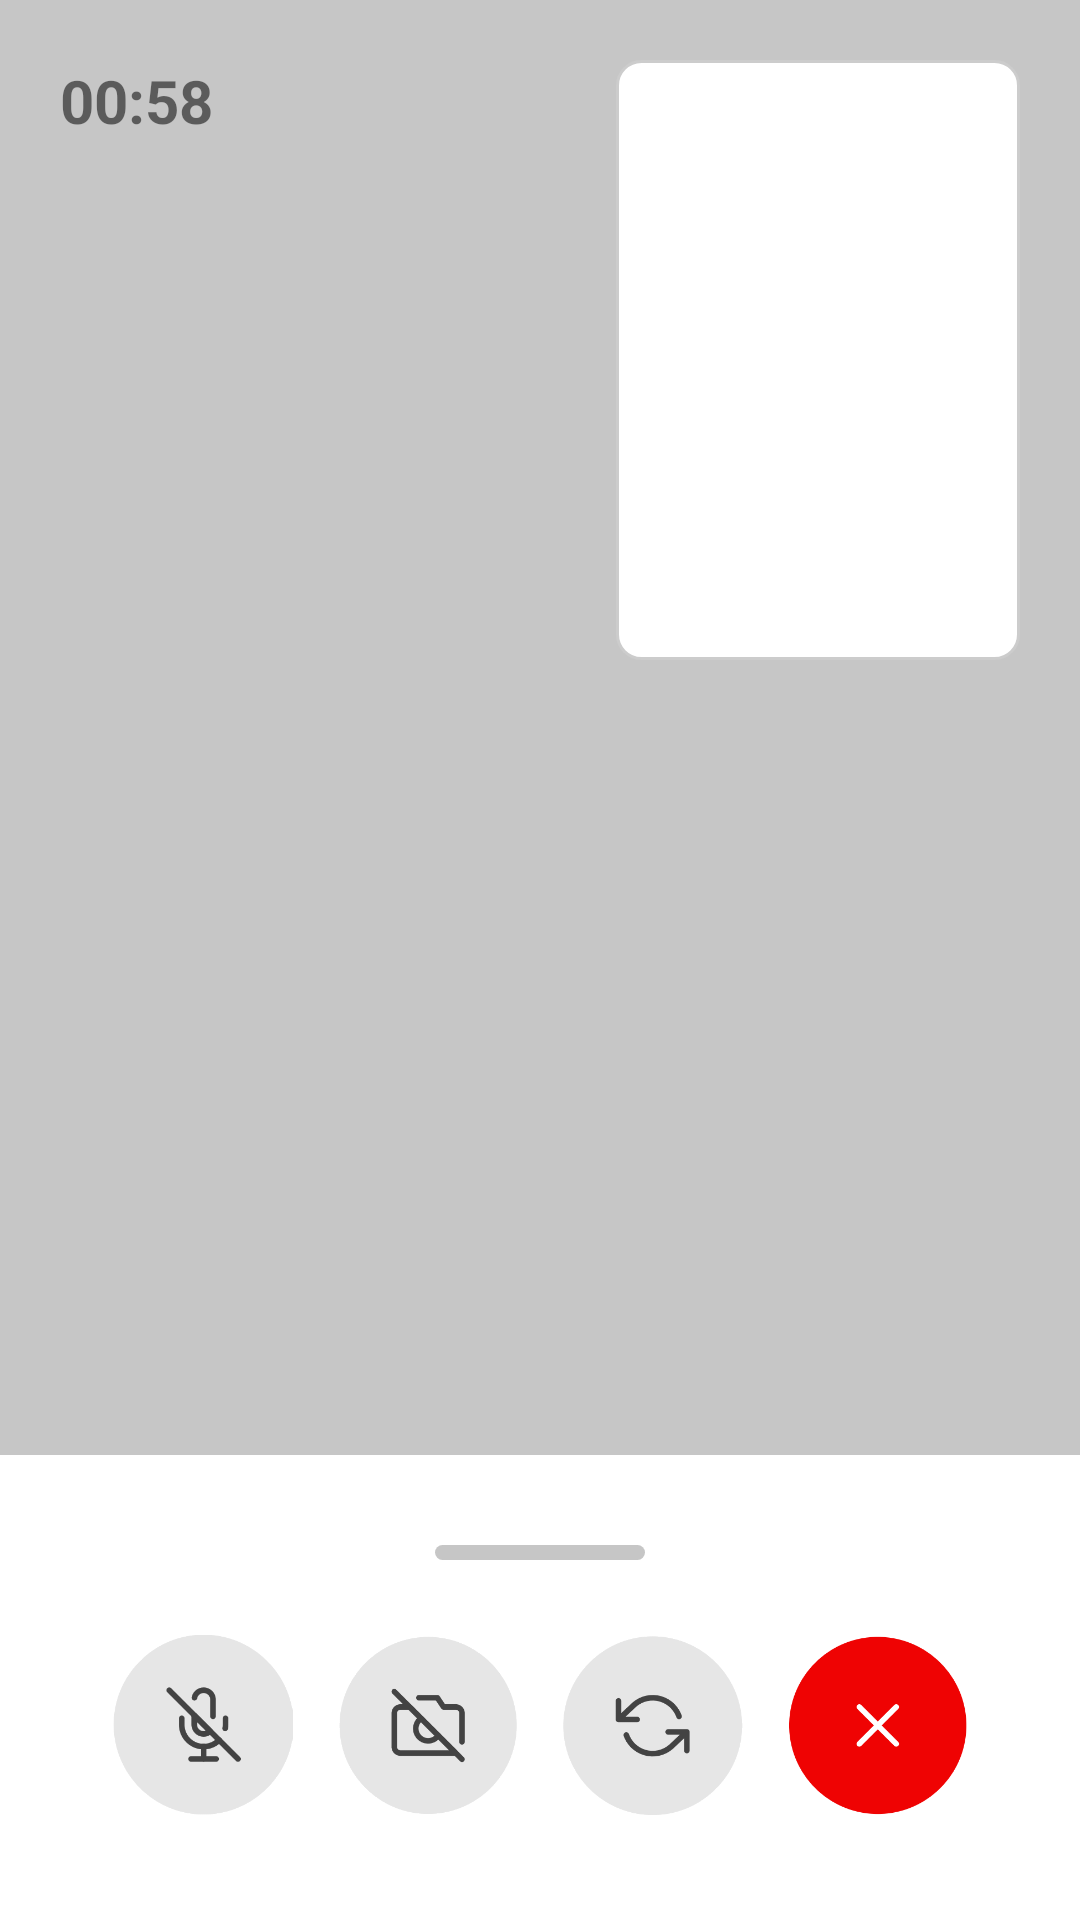

Icon click points for this 1080×1920 phone screenshot, format (x,y):
camoff: (428,1725)
mute: (203,1724)
redcross: (878,1725)
rotat: (653,1726)
